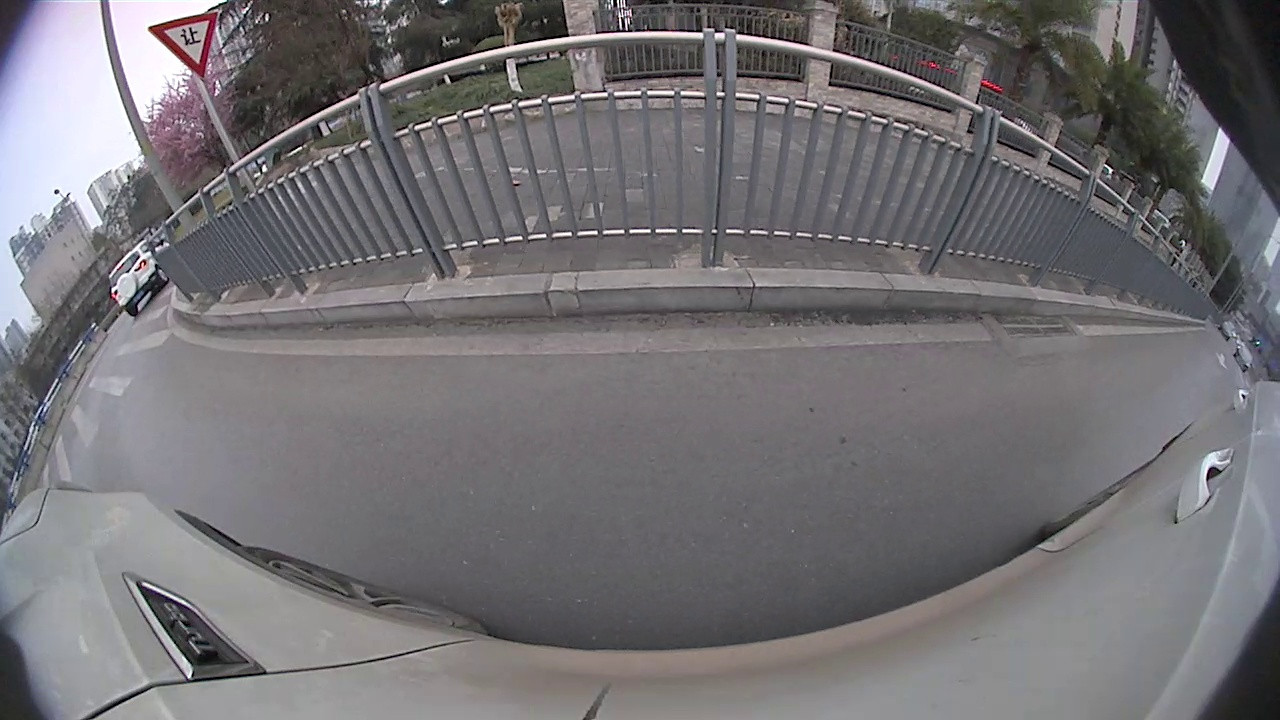car: (103, 236, 173, 318)
rear: (156, 265, 169, 286)
